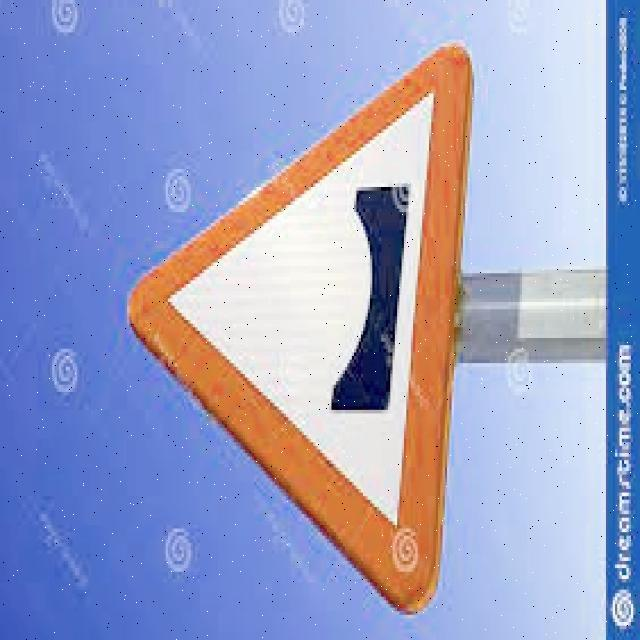Traffic sign: (122, 35, 480, 620)
